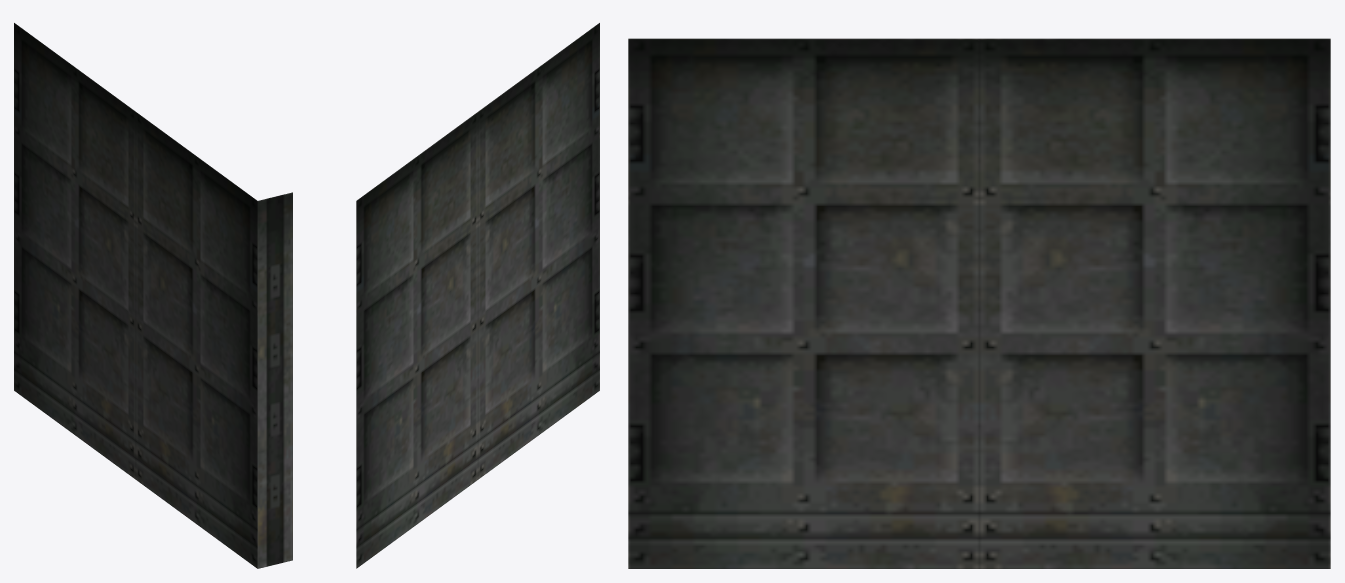
Rendered from ORDNANCEDEPOTINTDOOR.glb.
3 views of the same model, side by side, from view 1: azimuth 30°, elevation 25°; view 2: azimuth 150°, elevation 25°; view 3: azimuth 270°, elevation 25° (orthographic). The views are drawn at different scales.
Visible parts, largest first — view 1: ORDNANCEDEPOTINTDOOR; view 2: ORDNANCEDEPOTINTDOOR; view 3: ORDNANCEDEPOTINTDOOR.
Boxes of the visible parts, bbox=[...] form: ORDNANCEDEPOTINTDOOR: bbox=[14, 23, 292, 568]; ORDNANCEDEPOTINTDOOR: bbox=[356, 23, 599, 568]; ORDNANCEDEPOTINTDOOR: bbox=[628, 38, 1330, 568].
Bounding box in the file's own units: 0.25 × 2.5 × 3.
2 materials, 2 textured.
